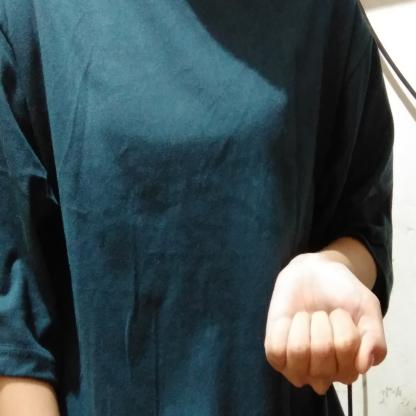where: (239, 238, 392, 401)
